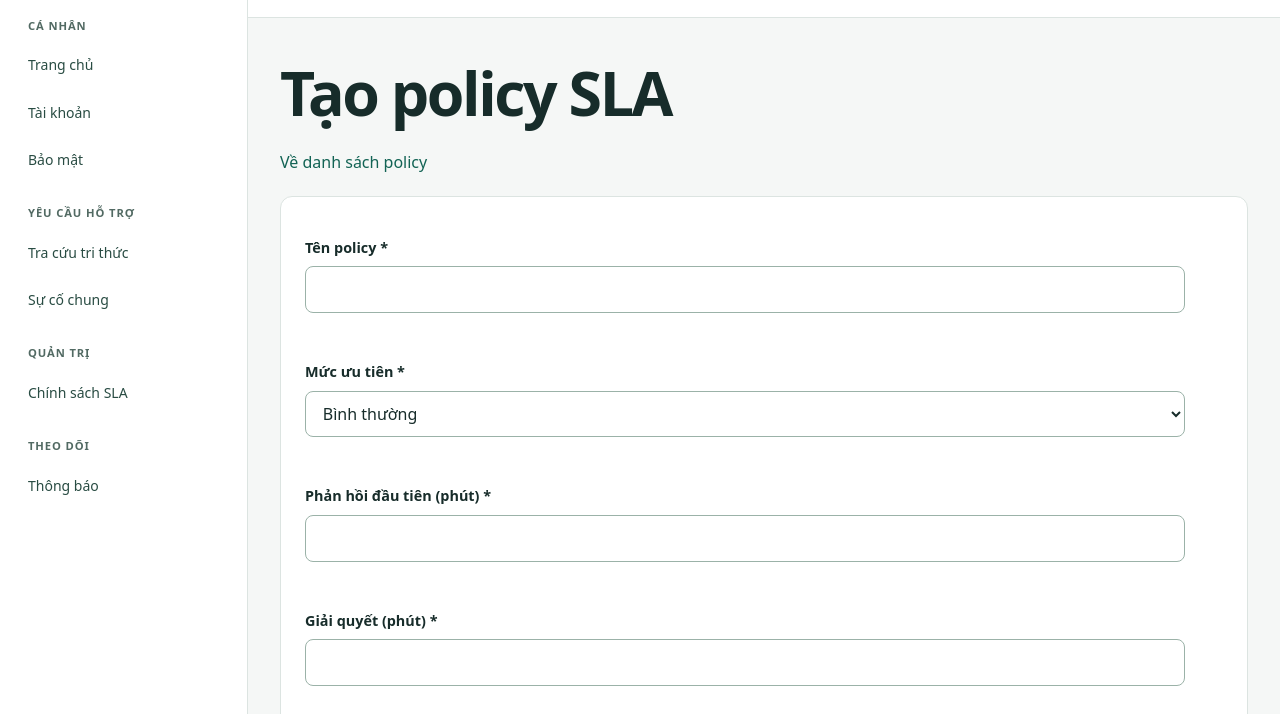
Test: SLA policy permission, pagination and forms › keeps create draft on duplicate active priority and lets the user choose another priority
The image size is (1280, 714).
In the field labelled "Tên policy": point(745, 290) [305, 266, 1185, 313], type "Cam kết mới"
In the number field labelled "Phản hồi đầu tiên (phút)": point(745, 538) [305, 515, 1185, 562], type "30"
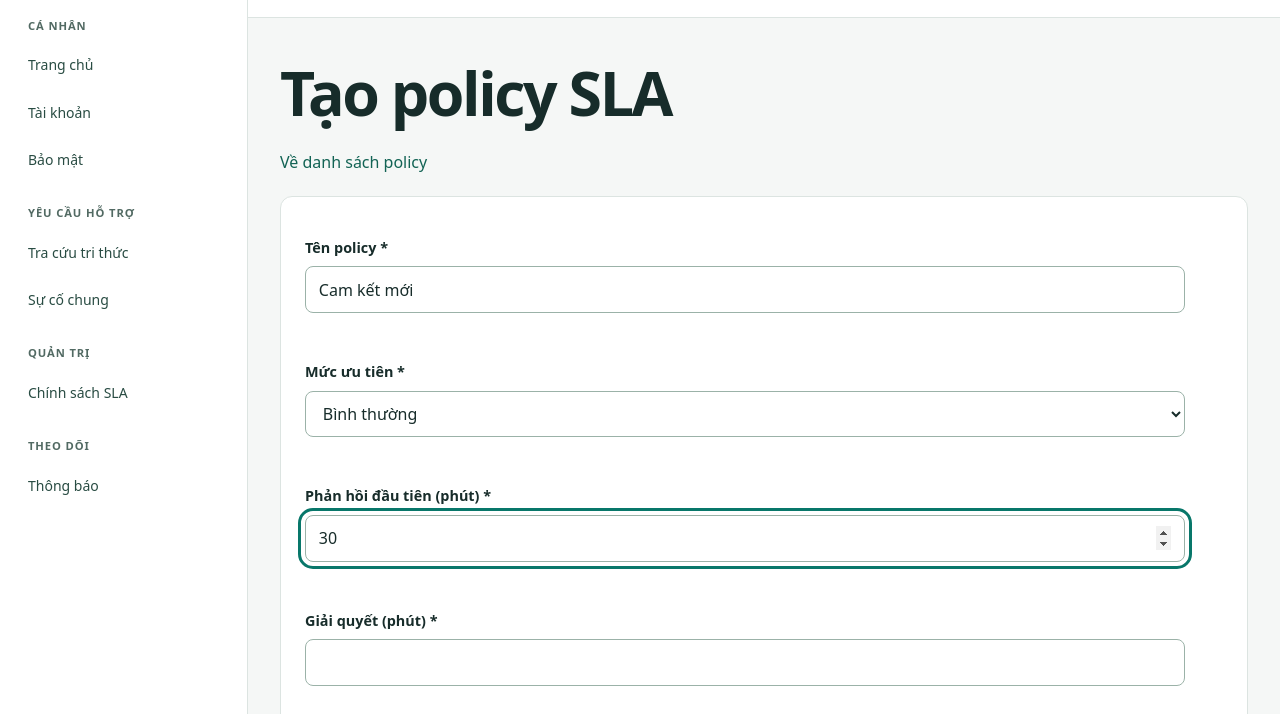
In the number field labelled "Giải quyết (phút)": point(745, 663) [305, 640, 1185, 686], type "120"
(page scrolled)
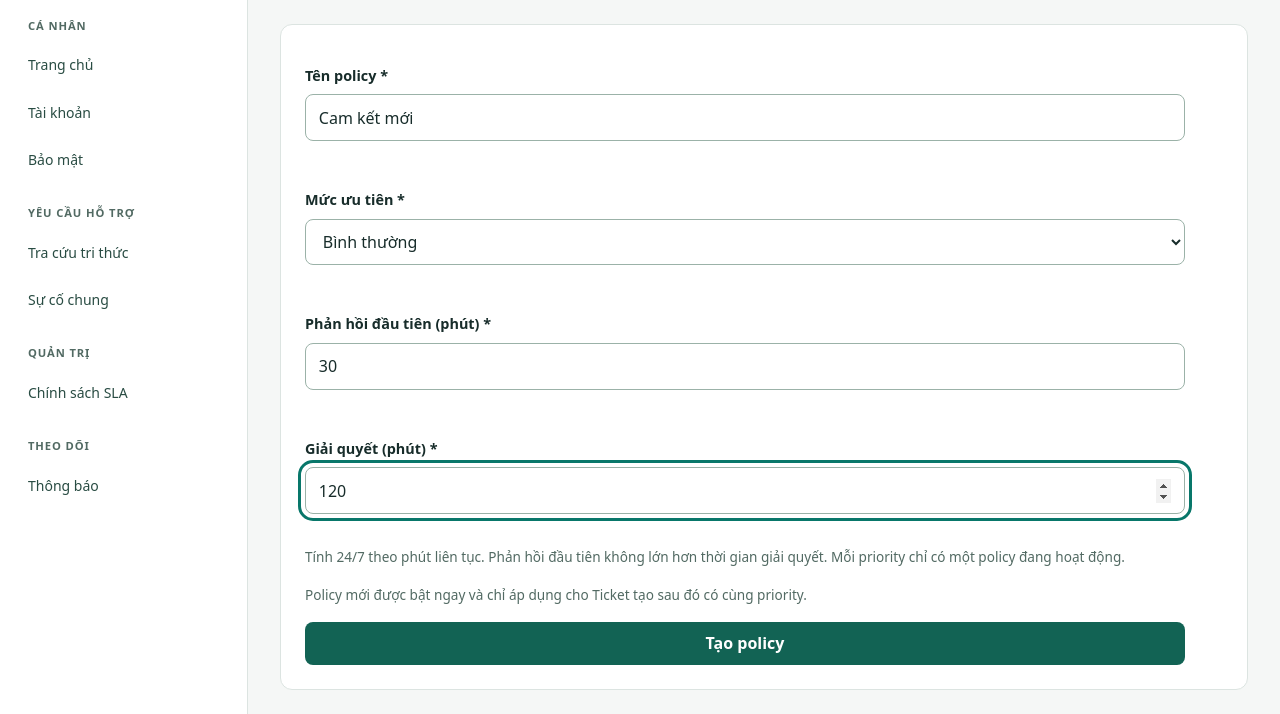
Click the button "Tạo policy": point(745, 644) [305, 622, 1185, 665]
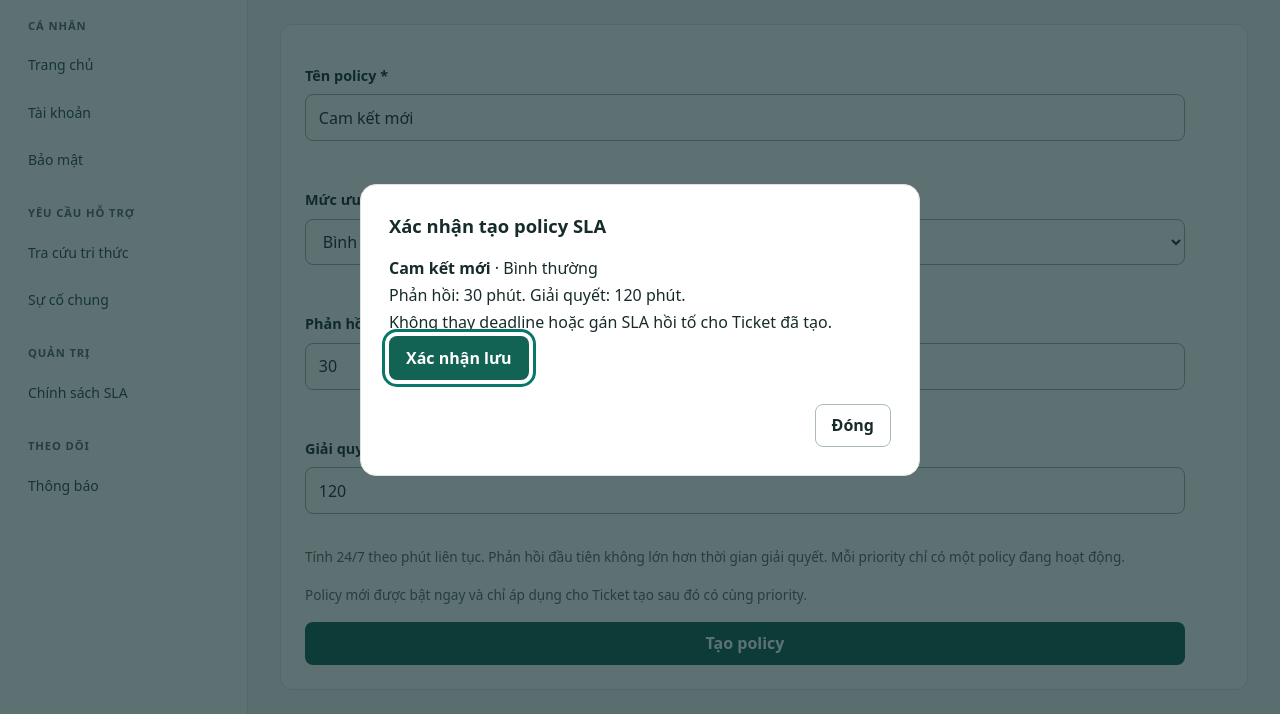
Click the button "Xác nhận lưu": point(459, 358) [389, 336, 529, 380]
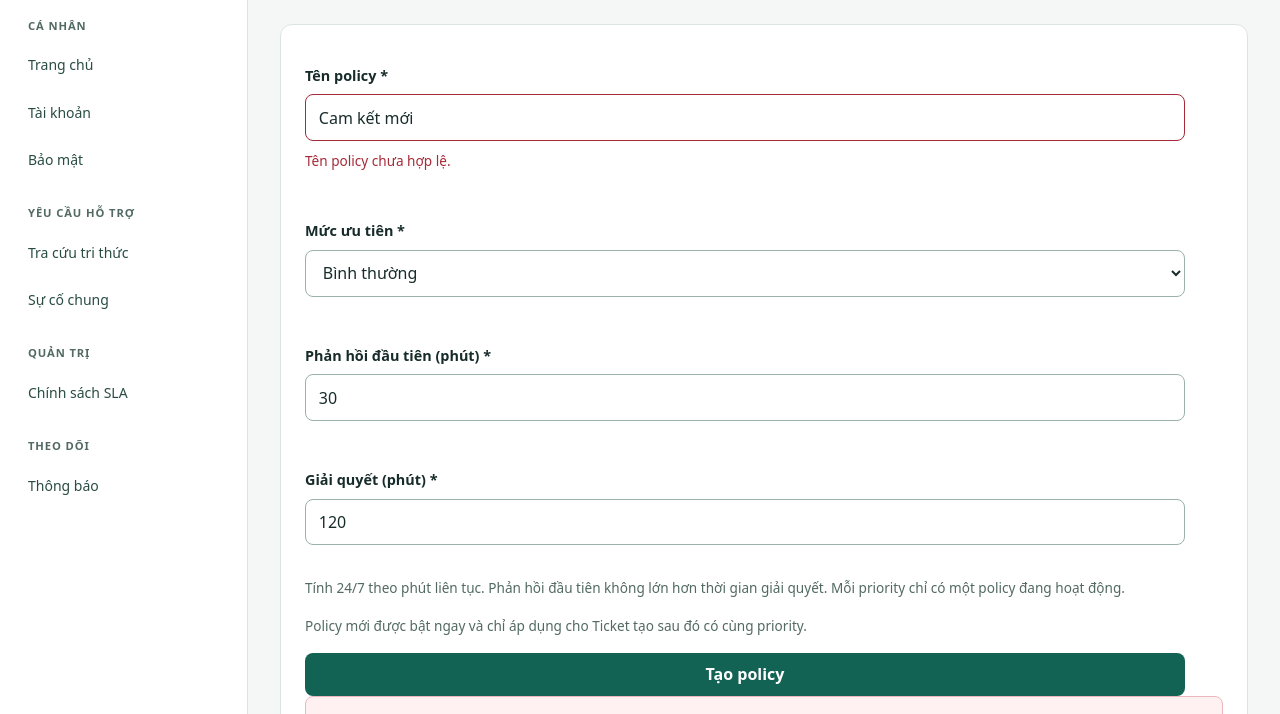
Select "Cao" in the dropdown labelled "Mức ưu tiên": point(745, 273) [305, 250, 1185, 297]
Click the button "Tạo policy": point(745, 675) [305, 653, 1185, 696]
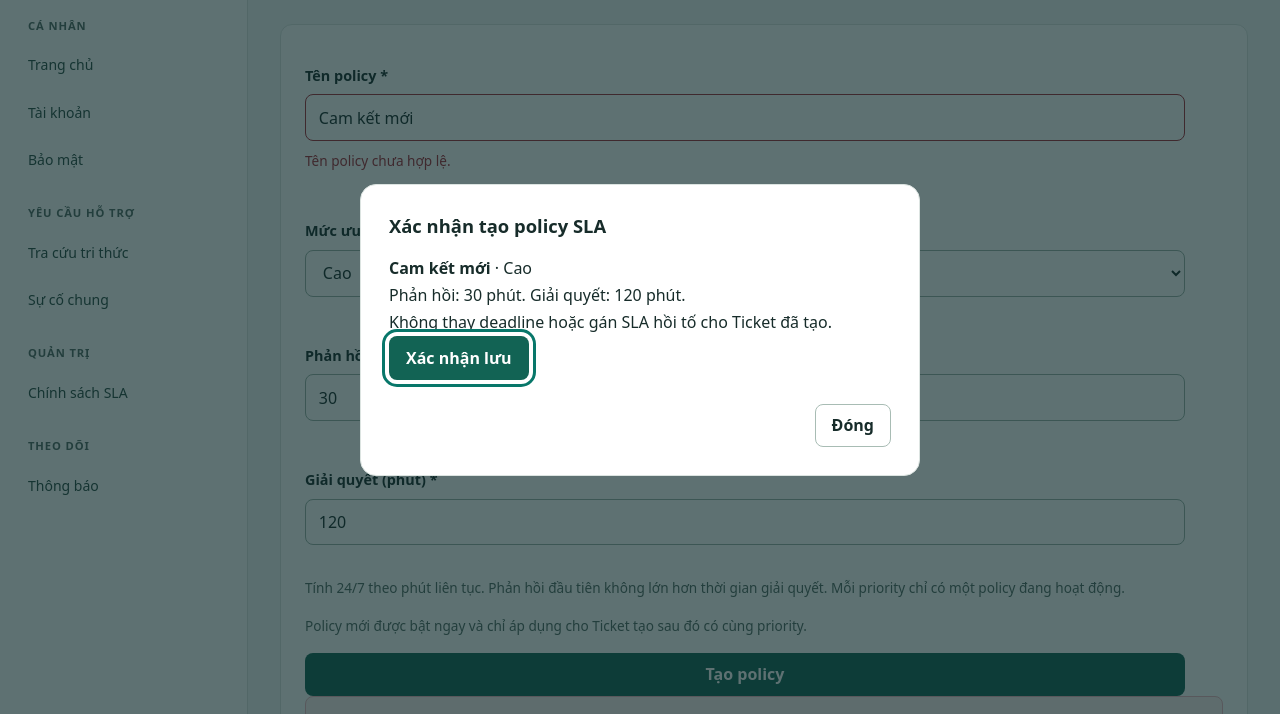
Click the button "Xác nhận lưu": point(459, 358) [389, 336, 529, 380]
(page scrolled)
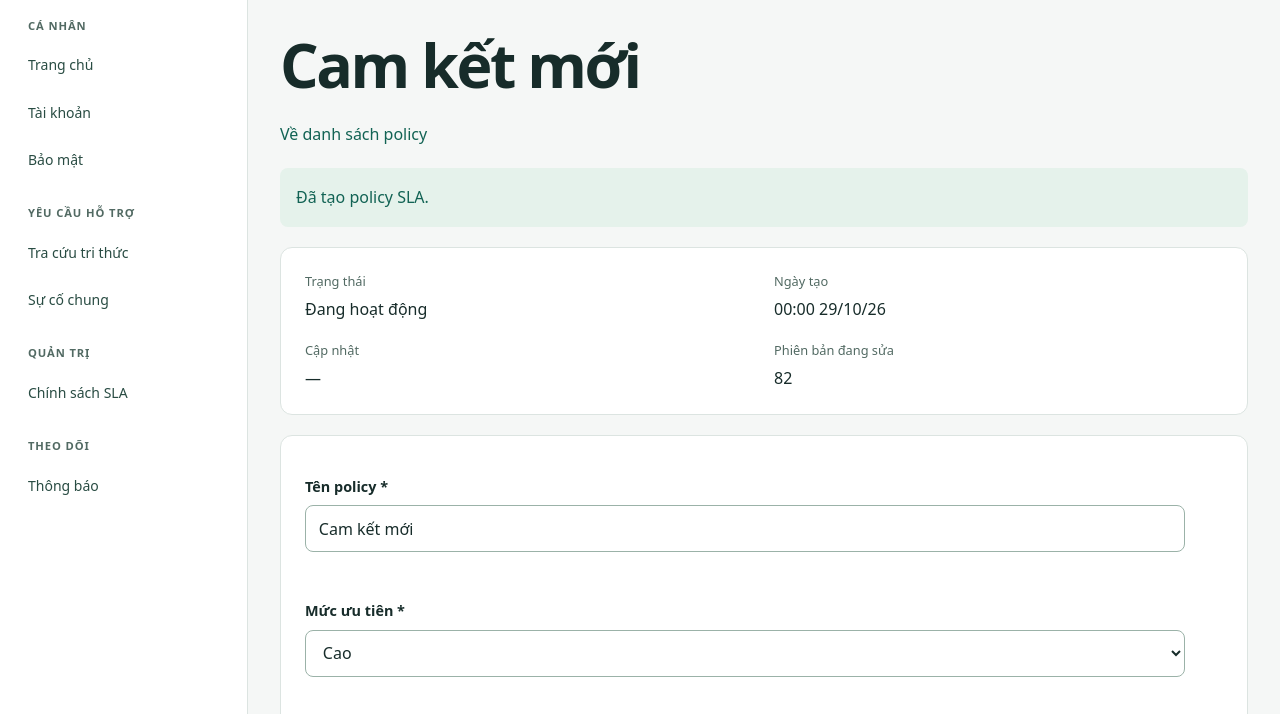
Result: the heading "Cam kết mới" is shown at [280, 23, 640, 106]
